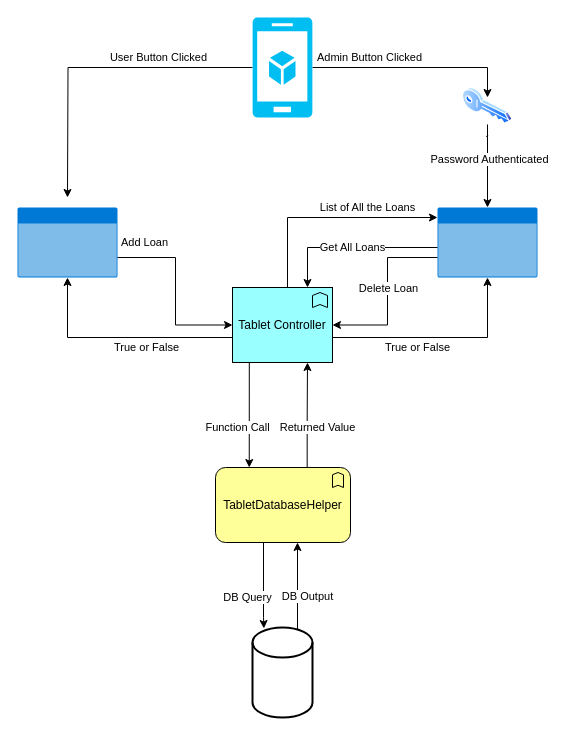
Some shapes in this 565 by 735 pixel diagram are drawn without their labels. The shapes that lost their labels are listed below. From the top down, each one's centre as x and y in pixels, then its label:
At [67,242]: "UserActivity".
At [487,242]: "AdminActivity".
